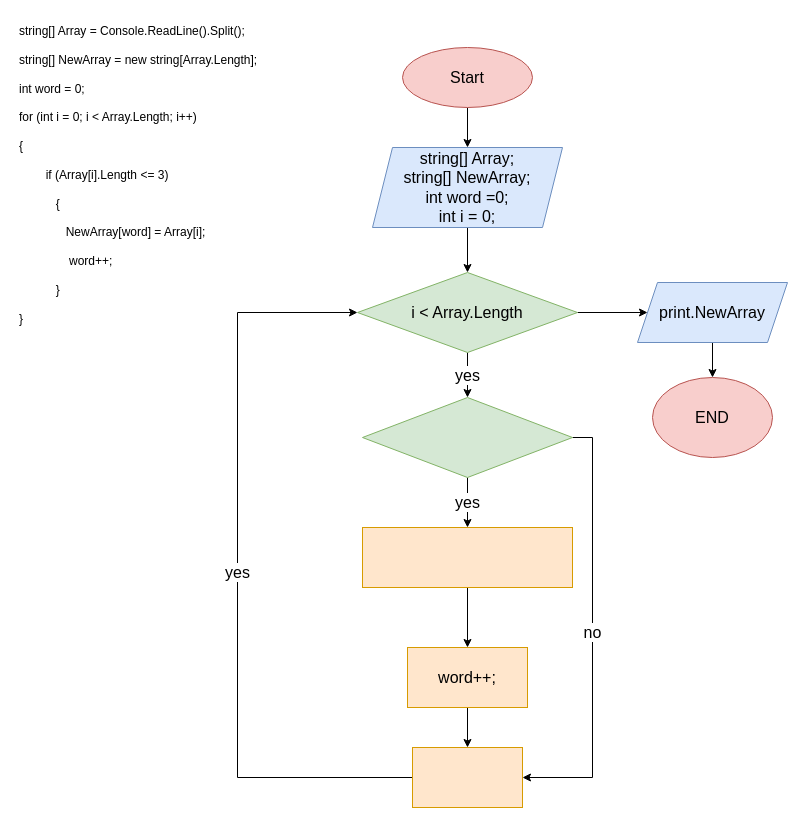
The diagram is 805 pixels wide and 825 high, and some of its shapes have lost their labels. The shapes that lost their labels are listed below. From the top down, each one's centre as x and y in pixels, then its label:
At pixel 467 437: "Array[i].Length <= 3".
At pixel 467 557: "NewArray[word]=Array[i];".
At pixel 467 777: "i++;".
